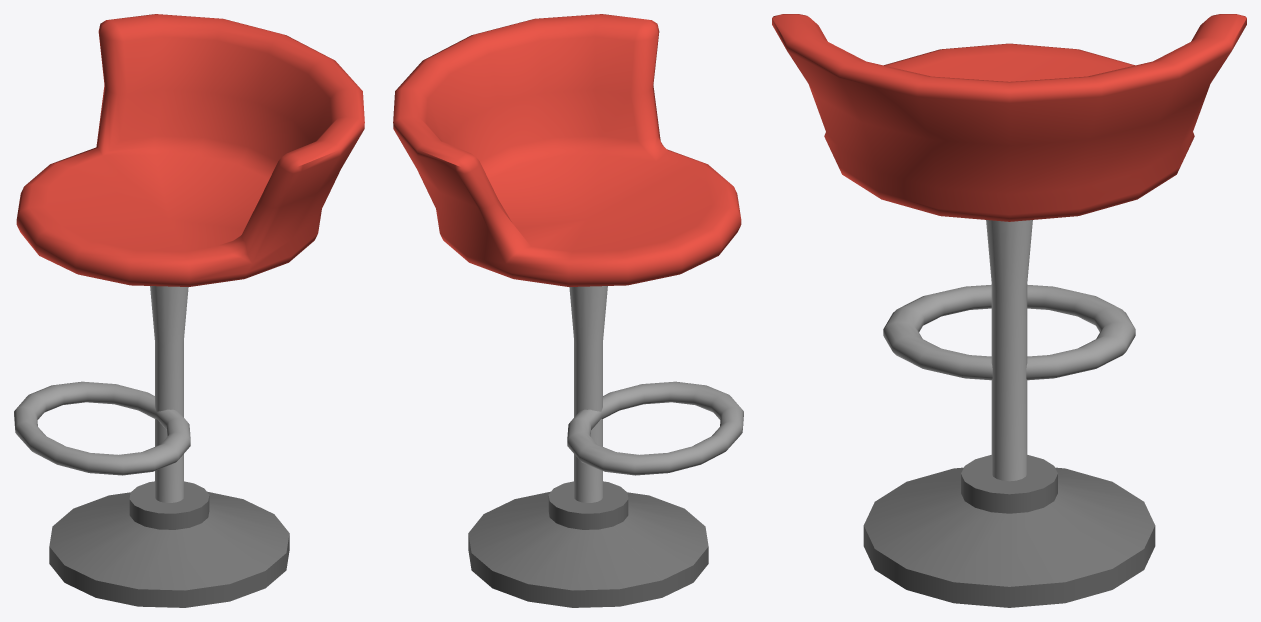
File: Bar Chair04.fbx
The picture shows the model from 3 angles, left to right: view 1: azimuth 30°, elevation 25°; view 2: azimuth 150°, elevation 25°; view 3: azimuth 270°, elevation 25°; orthographic projection. The views are drawn at different scales.
Parts seen in each view (by area): view 1: Bar Chair04; view 2: Bar Chair04; view 3: Bar Chair04.
Part boxes in pixels (left/top/right/bottom): Bar Chair04: left=14, top=14, right=364, bottom=607; Bar Chair04: left=393, top=14, right=743, bottom=607; Bar Chair04: left=772, top=14, right=1246, bottom=607.
Bounding box in the file's own units: 0.3793 × 0.4243 × 0.5445.
